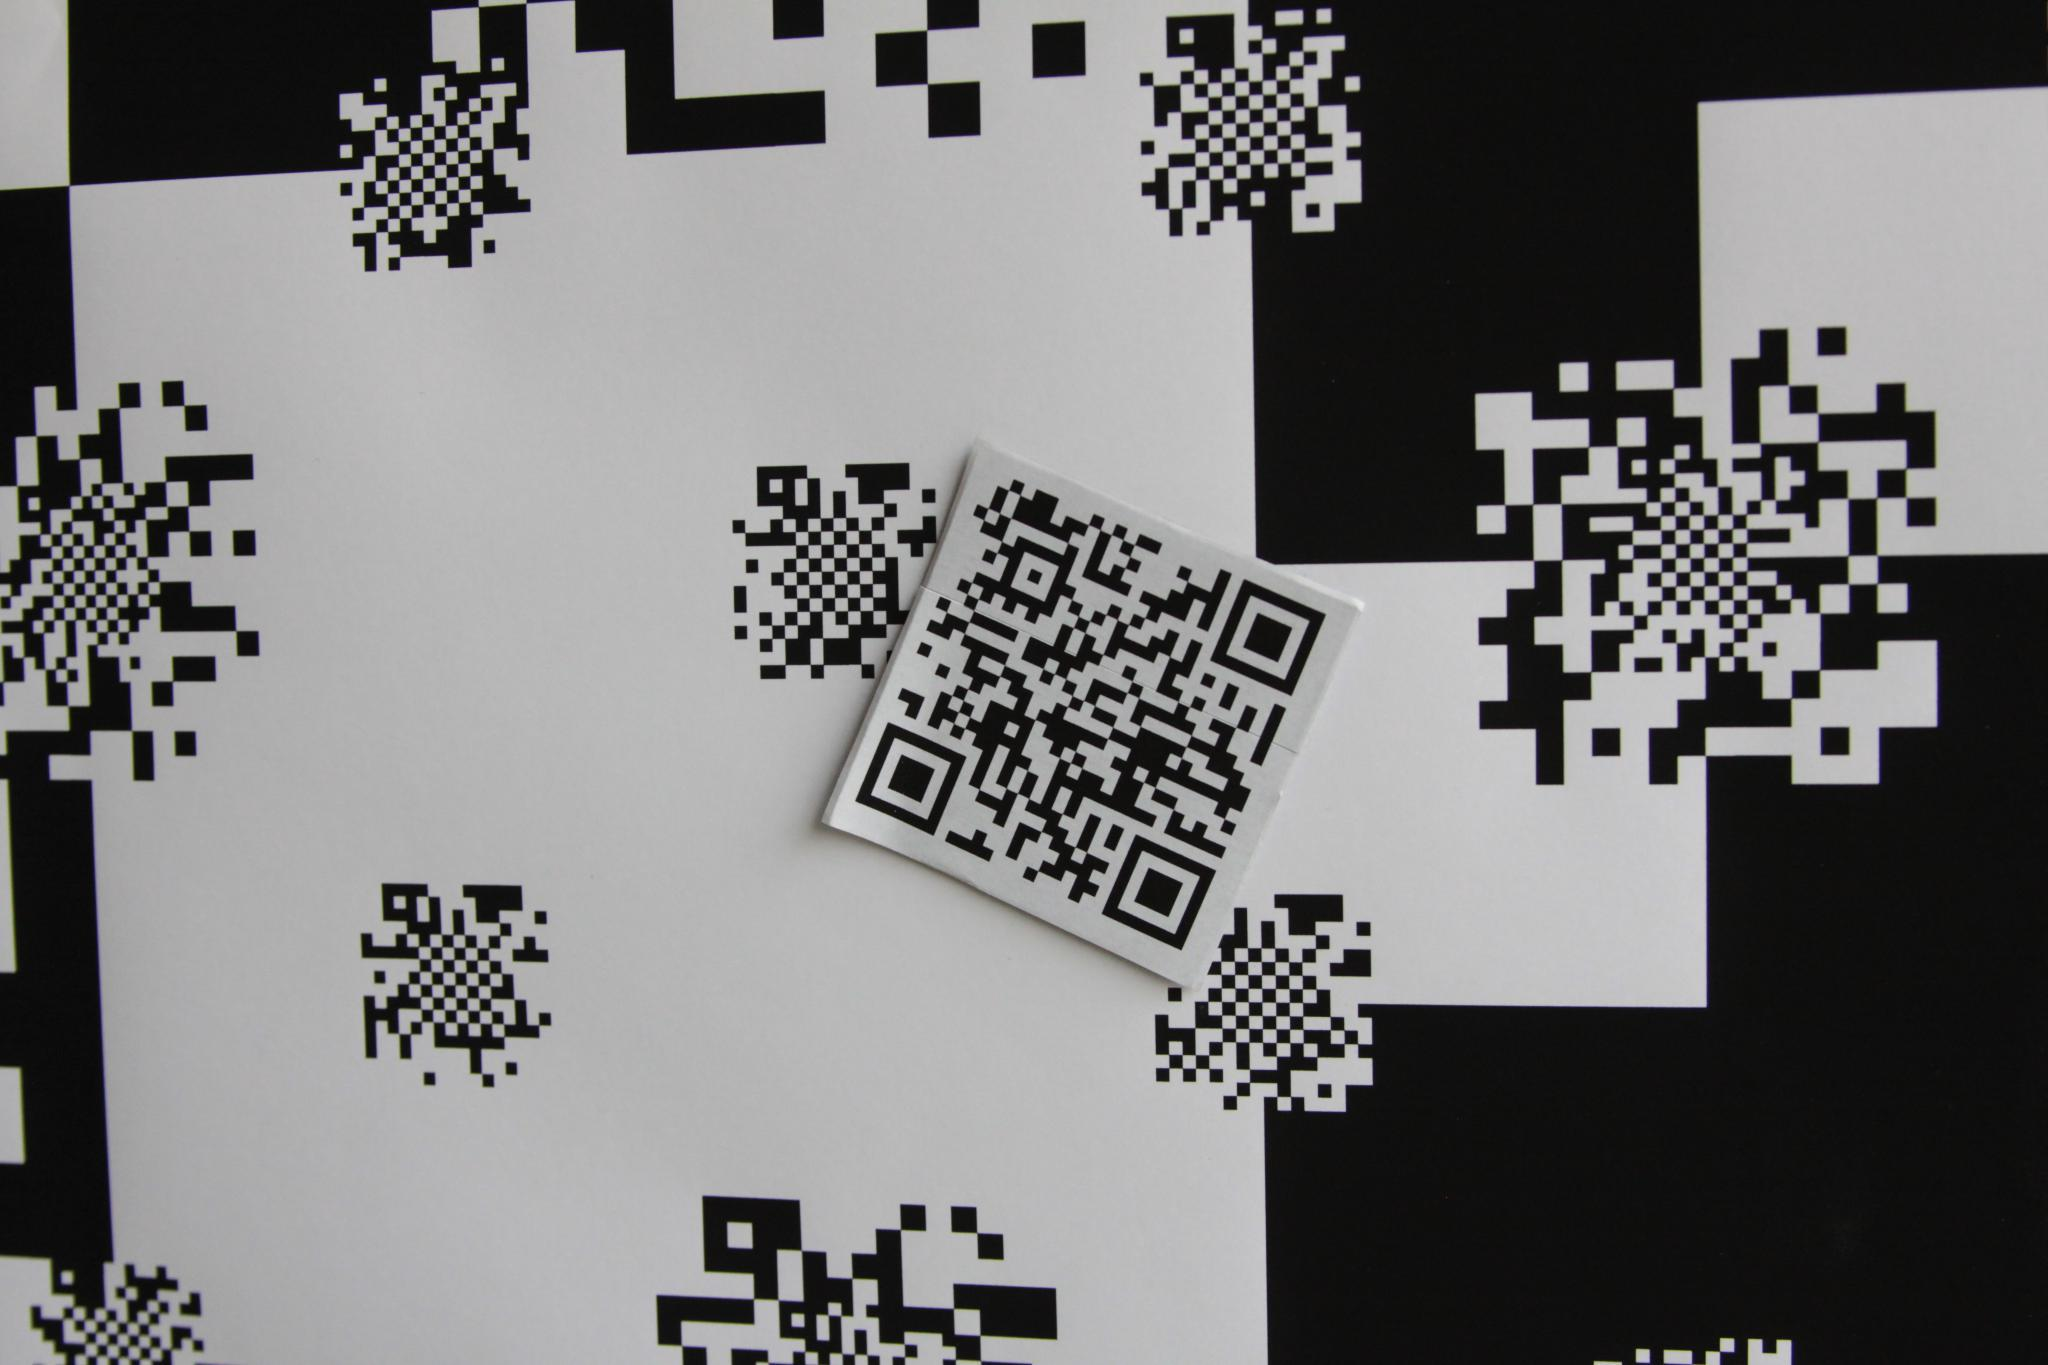Finder pattern: (854, 722, 981, 842), (1099, 836, 1230, 952), (1211, 577, 1325, 695)
